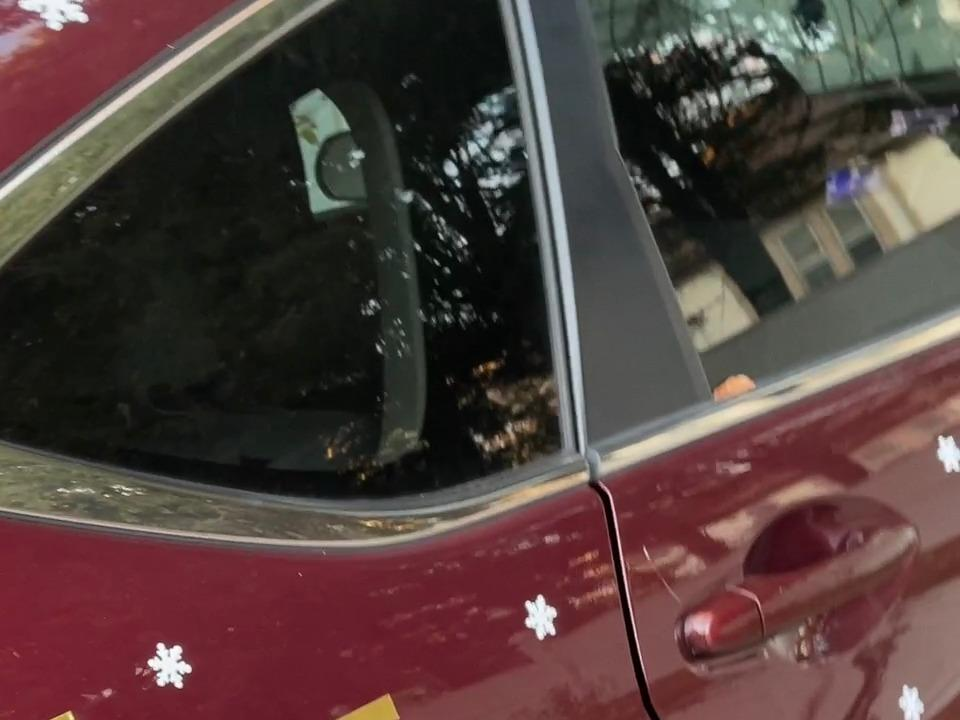dent: (139, 633, 201, 700), (515, 587, 573, 642), (890, 676, 935, 720), (928, 430, 960, 479)
scratch: (298, 684, 405, 720), (0, 700, 87, 720)
